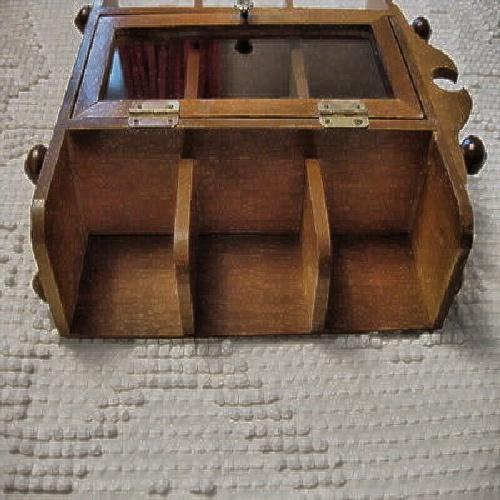cabinet: (42, 12, 463, 339)
